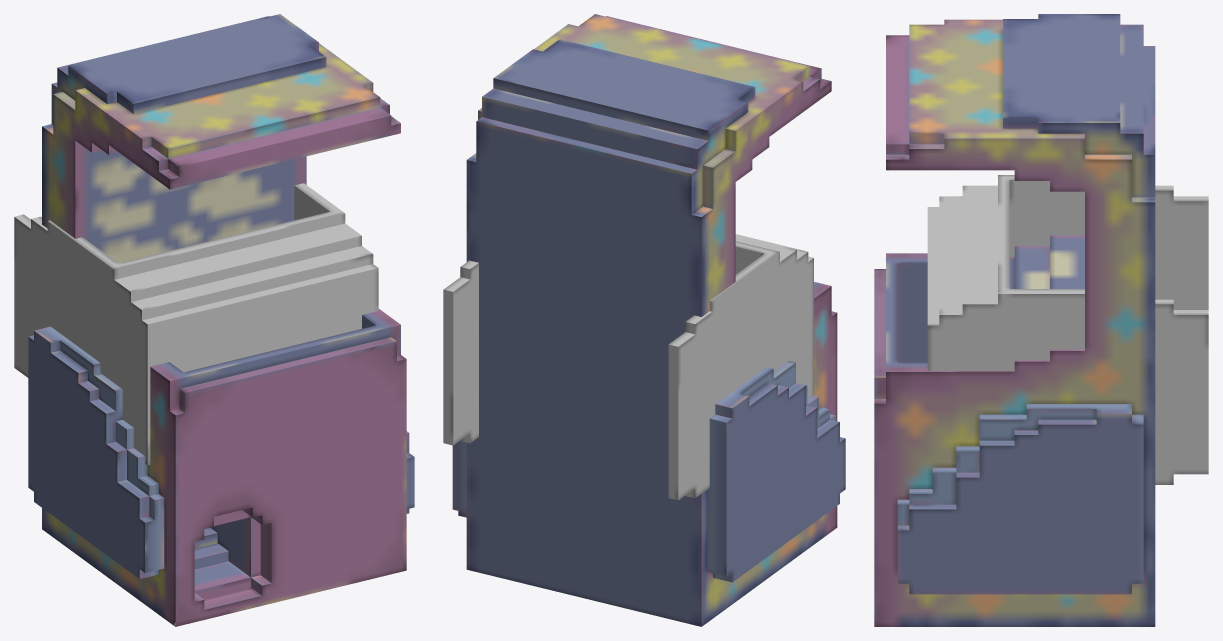
The model's file is gacha.fbx.
The picture shows the model from 3 angles, left to right: view 1: azimuth 30°, elevation 25°; view 2: azimuth 150°, elevation 25°; view 3: azimuth 270°, elevation 25°; orthographic projection. The views are drawn at different scales.
Parts seen in each view (by area): view 1: gacha-4, gacha-3; view 2: gacha-4, gacha-3; view 3: gacha-4, gacha-3.
Boxes of the visible parts, x1,y1,x2,y2 form: gacha-4: (28,14,414,626); gacha-3: (14,183,378,465); gacha-4: (452,14,845,626); gacha-3: (443,234,813,500); gacha-4: (874,14,1155,626); gacha-3: (927,175,1208,484).
Bounding box in the file's own units: 280 × 470 × 286.
1 material, 1 textured.
